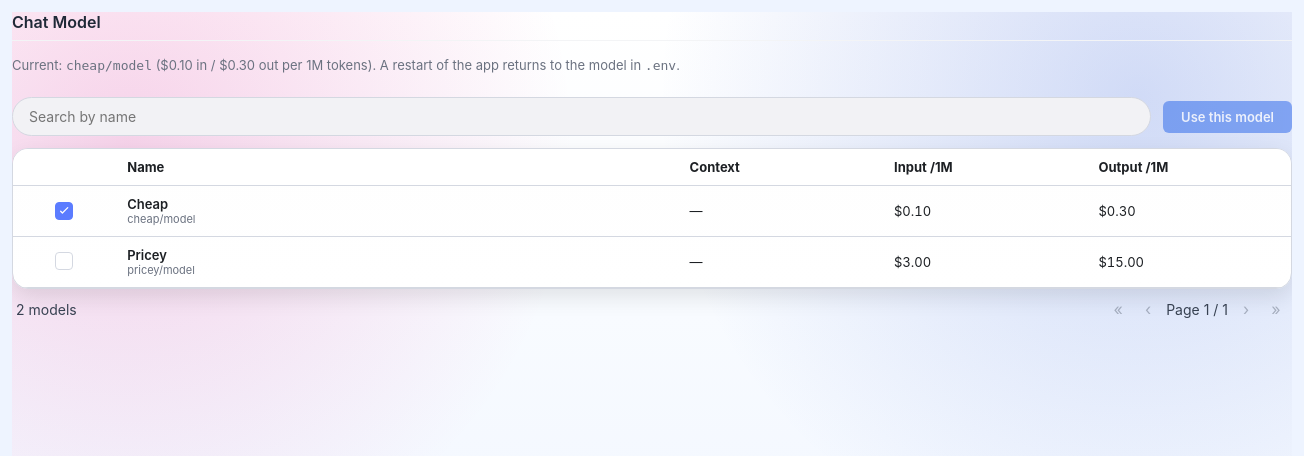
Test: control sections › filters the model table by search and preselects the current model
Check: the checkbox named "Select Cheap" is checked, box [55,202,73,220]
Check: the text "2 models" is shown, box [16,300,77,318]
In the field named "Search models": (582, 116) [12,97,1151,136], type "pric"
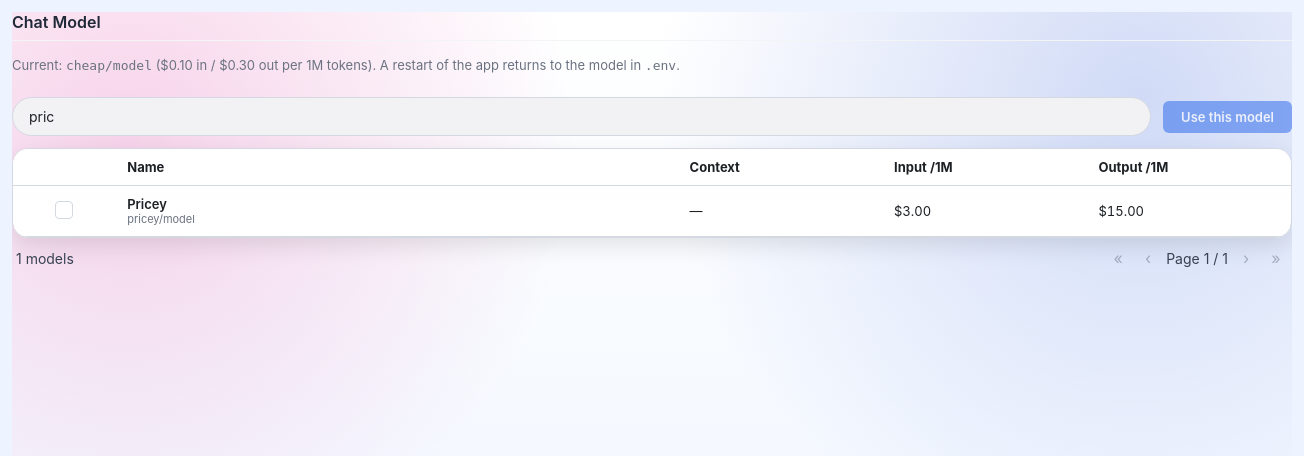
Check: the checkbox named "Select Pricey" is shown, box [55,200,73,218]
Check: the text "1 models" is shown, box [16,250,74,266]
